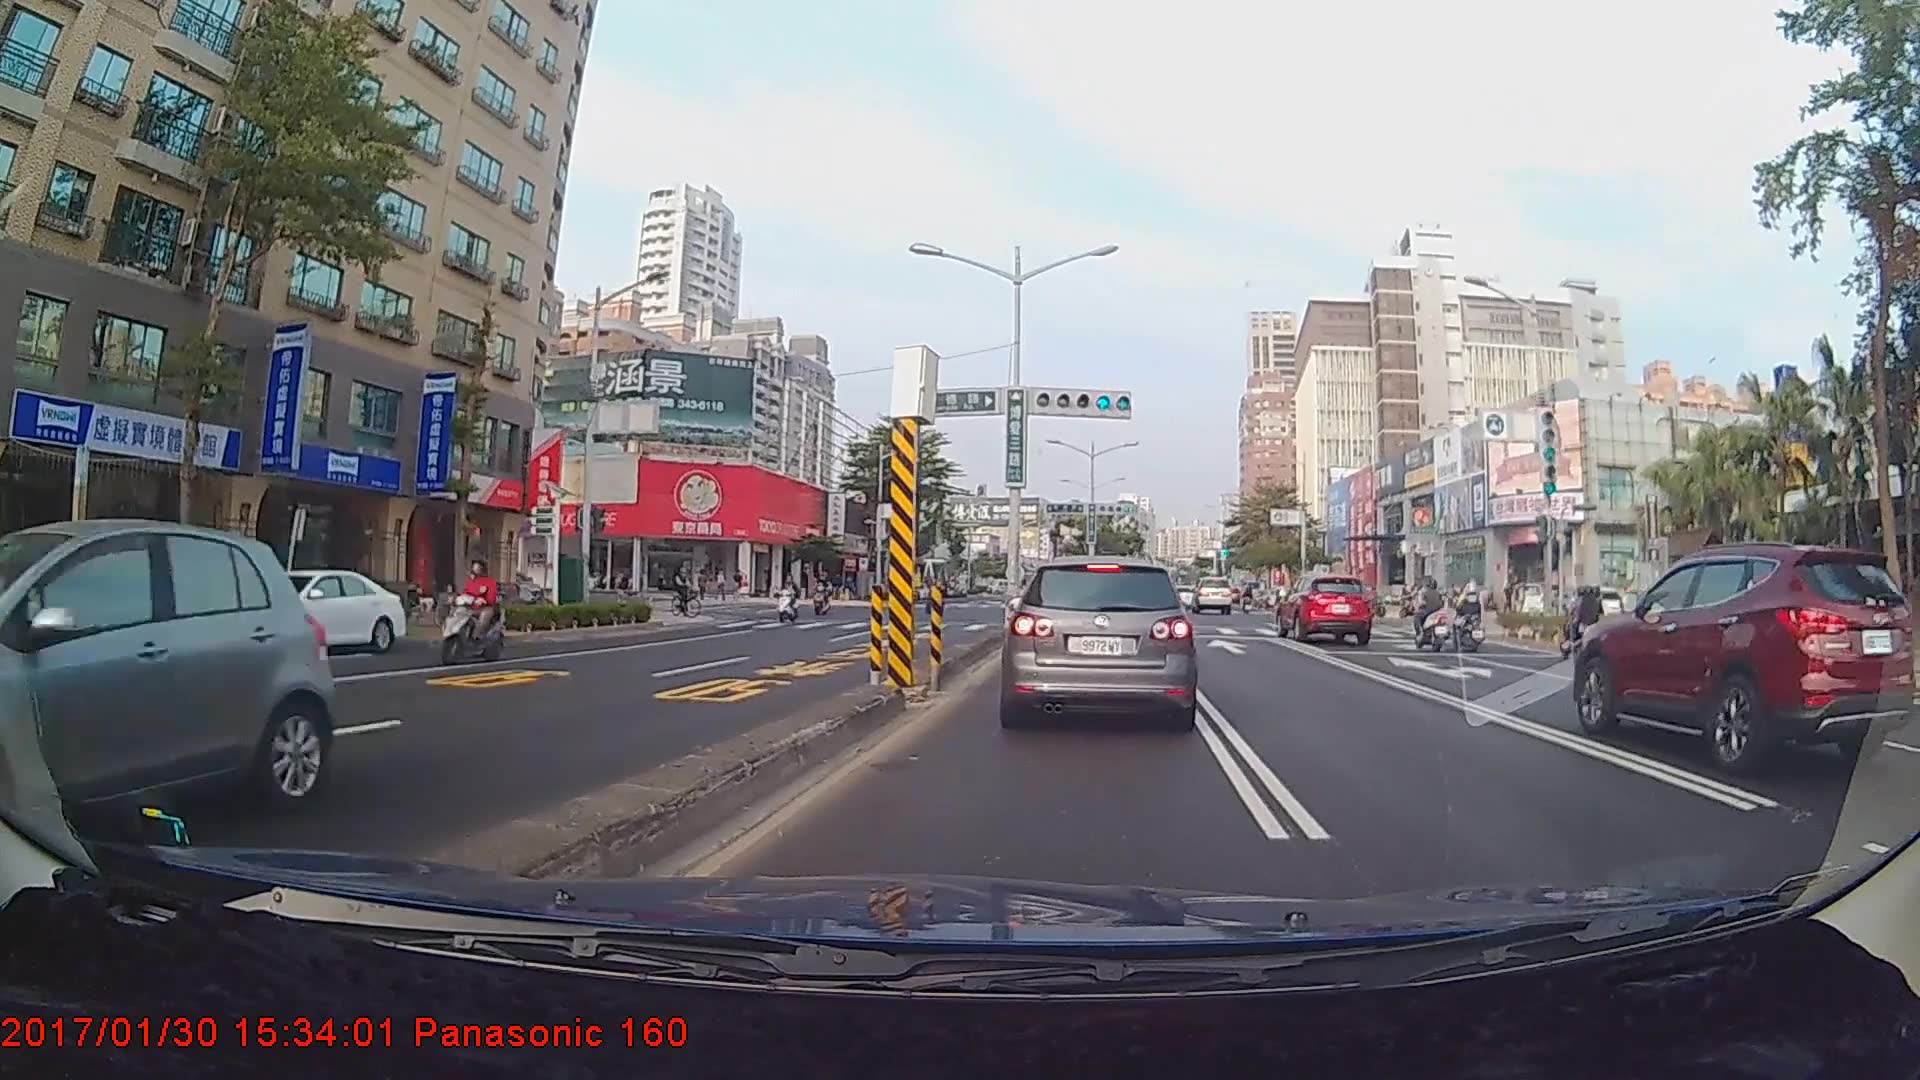rider: (436, 552, 511, 670), (1406, 583, 1460, 658), (1444, 584, 1494, 656), (662, 564, 703, 623), (773, 575, 808, 629)
vehicle: (0, 516, 335, 867), (1570, 542, 1916, 773), (1002, 550, 1198, 727), (201, 565, 407, 656), (1279, 570, 1374, 644), (1191, 574, 1234, 614)
